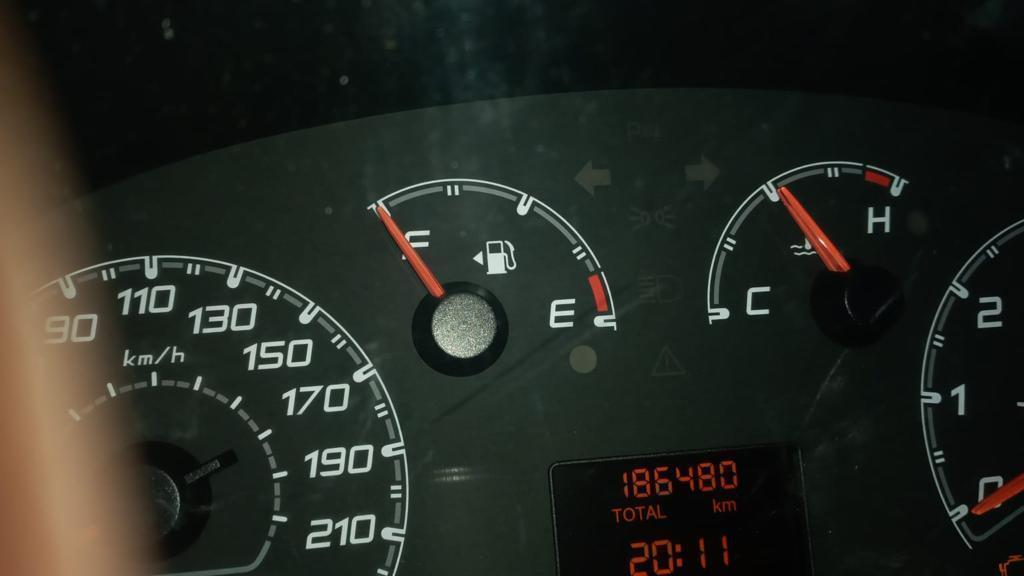0: (651, 537, 674, 575), (718, 459, 739, 490)
1: (718, 532, 730, 567), (696, 535, 708, 569), (618, 470, 630, 499)
2: (627, 539, 650, 576)
4: (674, 465, 694, 492)
6: (653, 465, 674, 496)
8: (696, 461, 718, 492), (631, 467, 652, 498)
X: (721, 499, 737, 513), (609, 506, 622, 523), (656, 502, 668, 520), (675, 542, 683, 568), (645, 504, 657, 521), (710, 496, 721, 514), (623, 506, 635, 522), (634, 505, 645, 521)
odometer: (546, 439, 824, 576)
